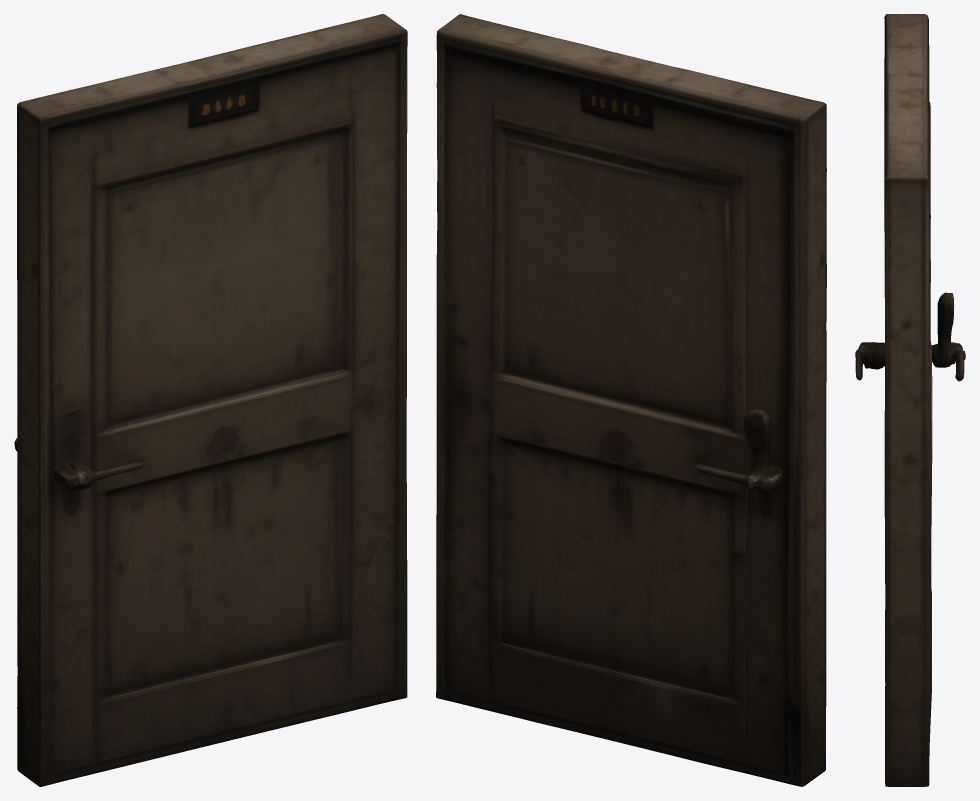
Rendered from exit_door.glb.
3 views of the same model, side by side, from view 1: azimuth 30°, elevation 25°; view 2: azimuth 150°, elevation 25°; view 3: azimuth 270°, elevation 25° (orthographic). The views are drawn at different scales.
Visible parts, largest first — view 1: geometry_0; view 2: geometry_0; view 3: geometry_0.
Part boxes in pixels (<box>): geometry_0: <box>14,14,407,786</box>; geometry_0: <box>436,14,826,786</box>; geometry_0: <box>855,14,965,786</box>.
Size of the model in its own units: 0.5774 by 1 by 0.1639.
Materials: 1 (1 with a texture image).
